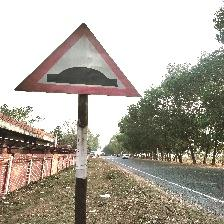Speed-breaker: (16, 27, 138, 95)
